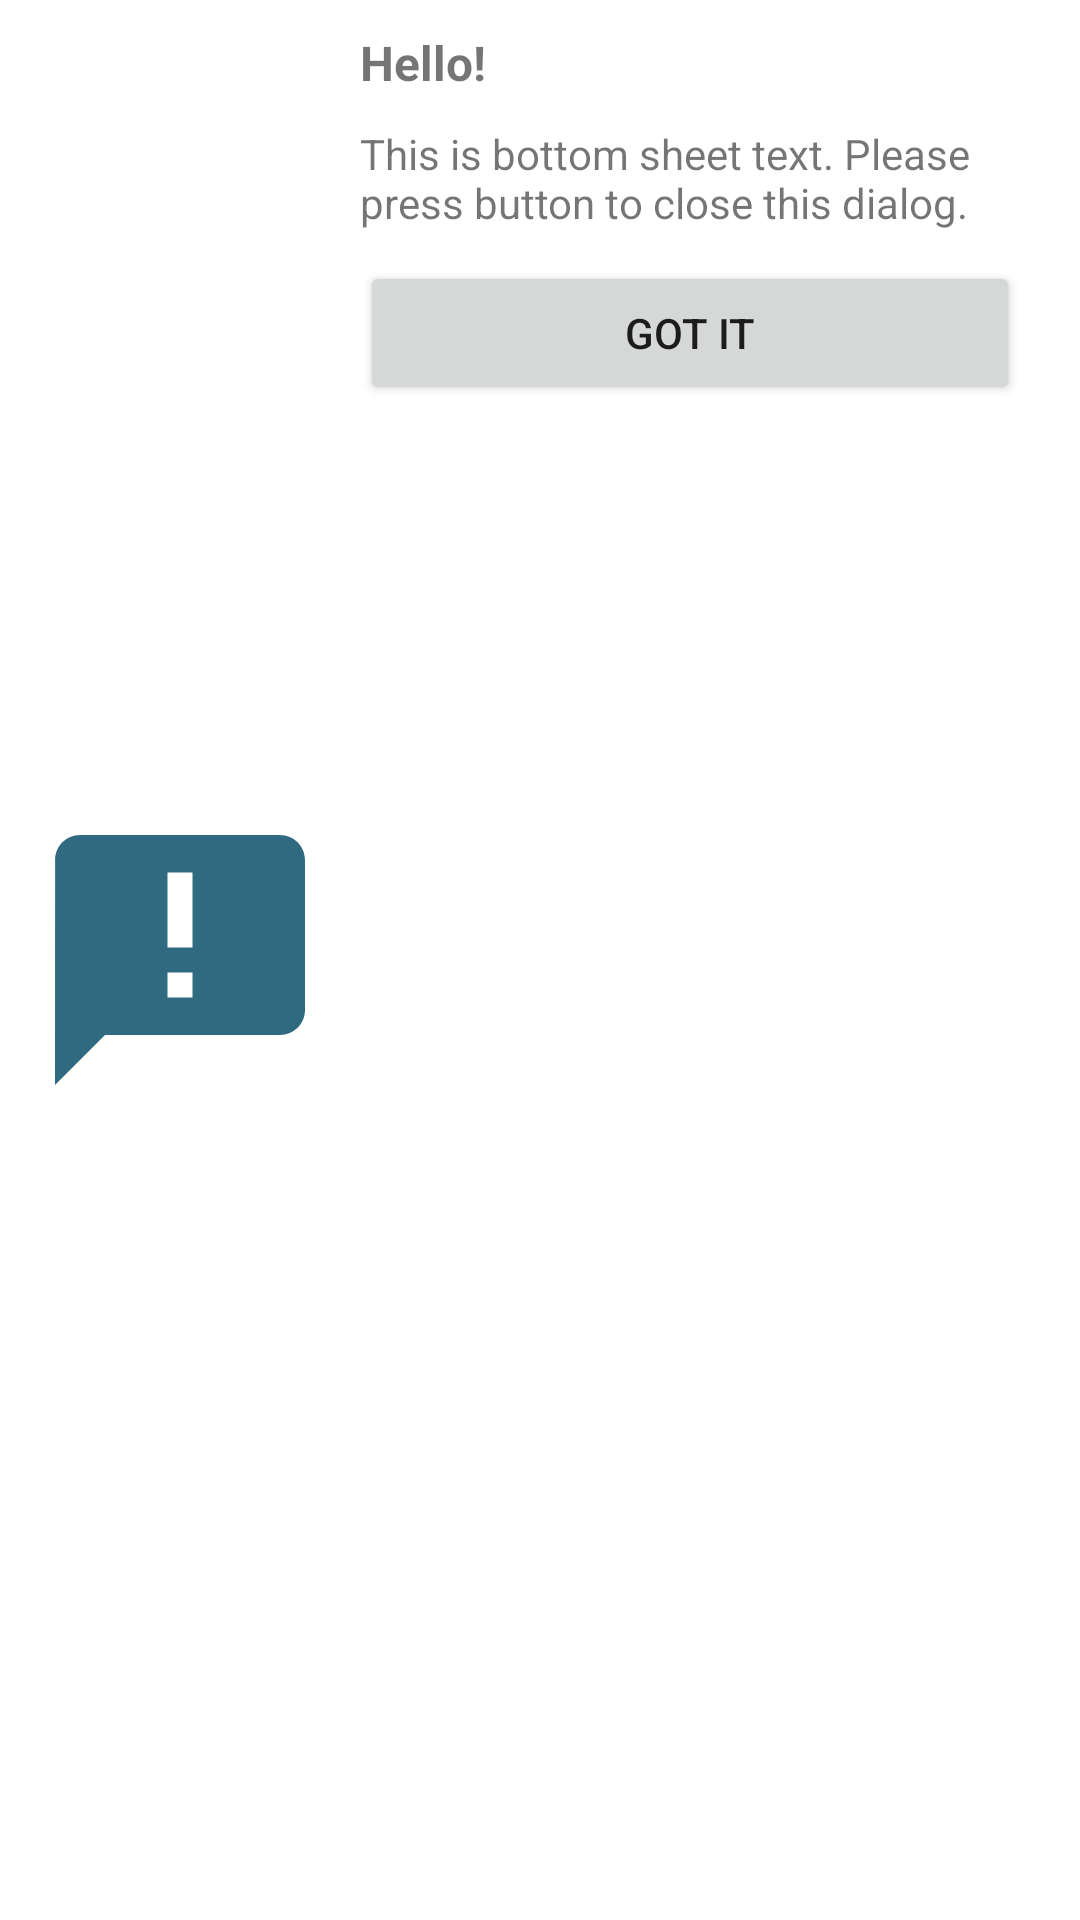

Icon click points for this 1080 × 1920 phone screenshot, format (x,y):
message: (180,960)
